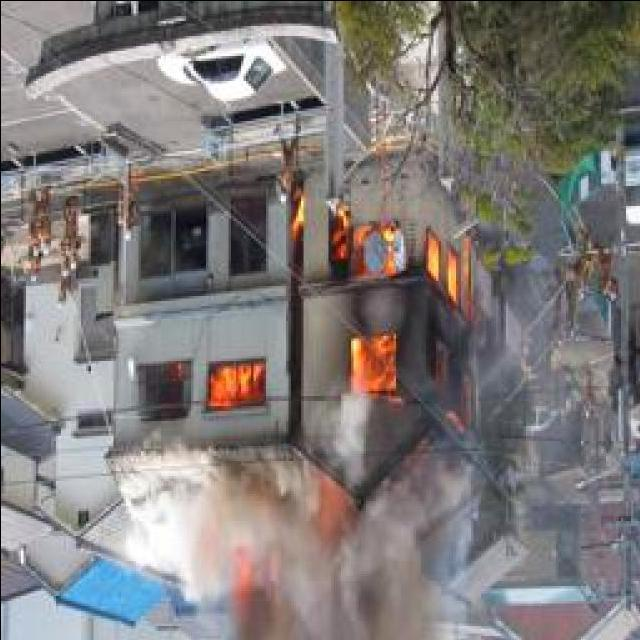Fire: (326, 190, 484, 412), (199, 354, 266, 415)
